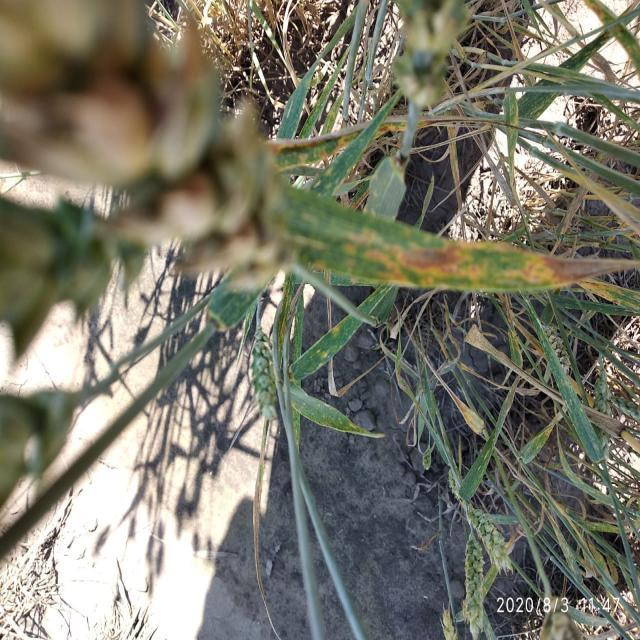wheat-septoria: (283, 186, 640, 296)
